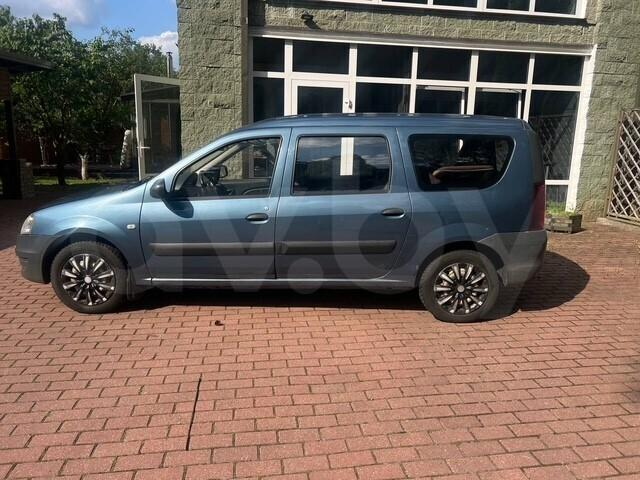Logan_2008-2015: (13, 104, 564, 328)
